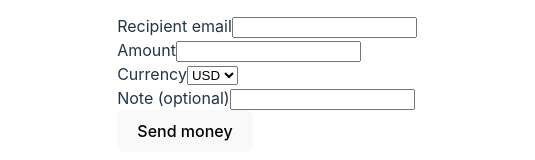
Test case: <SendMoneyForm /> › shows a real-time validation error as soon as an invalid email is typed
In the field labelled "Recipient email": point(324, 28) [232,17,417,38], type "not-an-email"
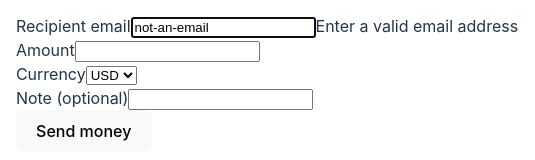
Now the text "Enter a valid email address" is shown, box [316,16,518,36]
